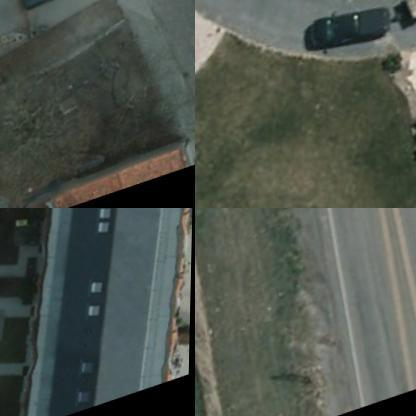car: (306, 3, 392, 66), (18, 0, 69, 20)
